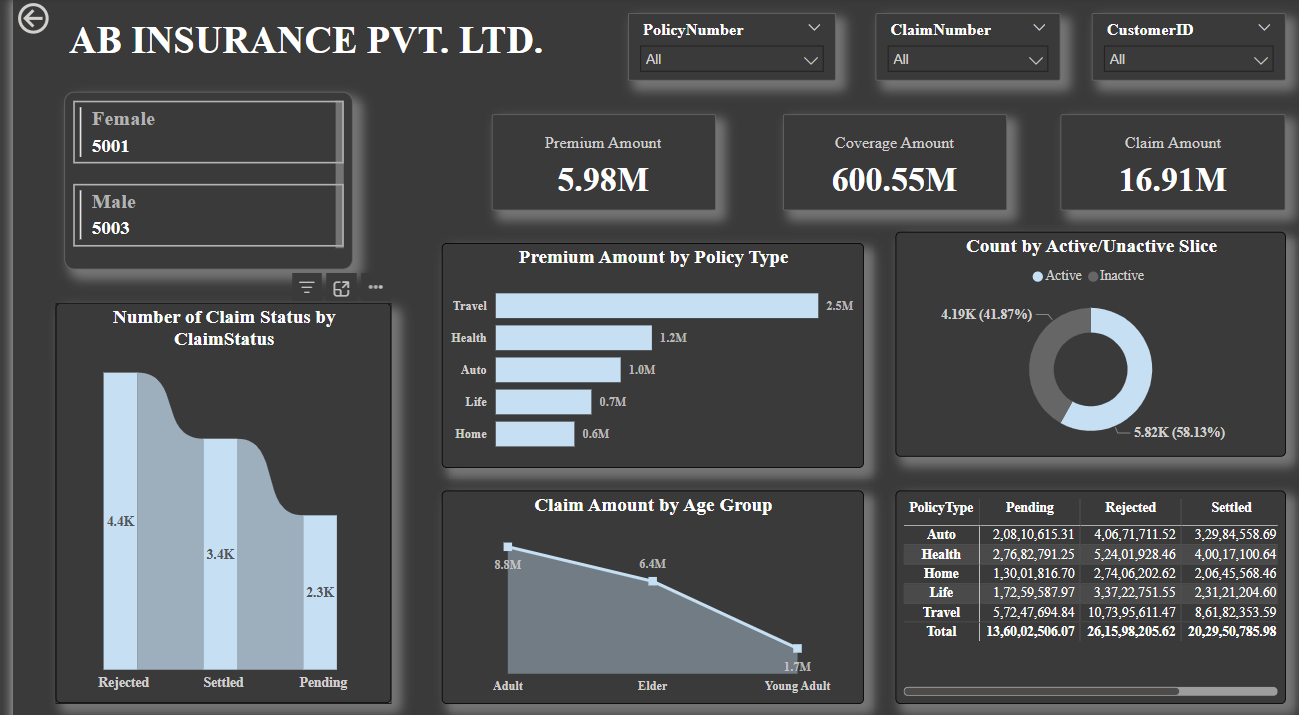

The page's visual inventory and layout, read from the dashboard file:
{"tool":"powerbi","page":{"name":"Insurance Report","canvas":[1280,720],"ordinal":0},"visuals":[{"type":"slicer","fields":{"Values":["InsuranceData.ClaimNumber"]},"box":[846.6,14.7,181.6,66.3],"z":0},{"type":"slicer","fields":{"Values":["InsuranceData.CustomerID"]},"box":[1058.9,14.7,190.2,66.3],"z":1000},{"type":"textbox","box":[11,14.7,553.4,66.3],"z":2000},{"type":"slicer","fields":{"Values":["InsuranceData.PolicyNumber"]},"box":[603.7,14.7,203.7,66.3],"z":3000},{"type":"cardVisual","fields":{"Data":["Sum(InsuranceData.PremiumAmount)"]},"box":[470.4,114.1,219.7,94.4],"z":4000},{"type":"cardVisual","fields":{"Data":["Sum(InsuranceData.CoverageAmount)"]},"box":[756.3,114.1,219.7,94.4],"z":5000},{"type":"cardVisual","fields":{"Data":["Sum(InsuranceData.ClaimAmount)"]},"box":[1028.2,114.1,221.1,94.4],"z":6000},{"type":"multiRowCard","fields":{"Values":["InsuranceData.Gender","CountNonNull(InsuranceData.Gender)"]},"box":[50.7,91.5,283.1,174.6],"z":7000},{"type":"ribbonChart","title":"Number of Claim Status by ClaimStatus","fields":{"Category":["InsuranceData.ClaimStatus"],"Y":["CountNonNull(InsuranceData.ClaimStatus)"]},"box":[42.3,300,329.6,393],"z":8000},{"type":"barChart","title":"Premium Amount by Policy Type","fields":{"Category":["InsuranceData.PolicyType"],"Y":["Sum(InsuranceData.PremiumAmount)"]},"box":[421.1,240.8,414.1,221.1],"z":9000},{"type":"lineChart","title":"Claim Amount by Age Group","fields":{"Category":["InsuranceData.Age Group"],"Y":["Sum(InsuranceData.ClaimAmount)"]},"box":[421.1,483.1,414.1,209.9],"z":10000},{"type":"donutChart","title":"Count by Active/Unactive Slice","fields":{"Category":["InsuranceData.Active/Unactive"],"Y":["CountNonNull(InsuranceData.Active/Unactive)"]},"box":[866.2,229.6,383.1,221.1],"z":11000},{"type":"pivotTable","fields":{"Values":["Sum(InsuranceData.CoverageAmount)"],"Columns":["InsuranceData.ClaimStatus"],"Rows":["InsuranceData.PolicyType"]},"box":[866.2,483.1,383.1,209.9],"z":12000},{"type":"actionButton","box":[0,0,100,40],"z":13000}]}

Visuals, with their boxes in screenshot pixels (x1, y1, x2, y2), scaled from the page's 1280x720 canvas onto the 1299x715 screenshot:
slicer - InsuranceData.ClaimNumber: rect(859, 15, 1043, 80)
slicer - InsuranceData.CustomerID: rect(1075, 15, 1268, 80)
textbox: rect(11, 15, 573, 80)
slicer - InsuranceData.PolicyNumber: rect(613, 15, 819, 80)
cardVisual - Sum(InsuranceData.PremiumAmount): rect(477, 113, 700, 207)
cardVisual - Sum(InsuranceData.CoverageAmount): rect(768, 113, 990, 207)
cardVisual - Sum(InsuranceData.ClaimAmount): rect(1043, 113, 1268, 207)
multiRowCard - InsuranceData.Gender x CountNonNull(InsuranceData.Gender): rect(51, 91, 339, 264)
"Number of Claim Status by ClaimStatus" ribbonChart: rect(43, 298, 377, 688)
"Premium Amount by Policy Type" barChart: rect(427, 239, 848, 459)
"Claim Amount by Age Group" lineChart: rect(427, 480, 848, 688)
"Count by Active/Unactive Slice" donutChart: rect(879, 228, 1268, 448)
pivotTable - Sum(InsuranceData.CoverageAmount) x InsuranceData.ClaimStatus: rect(879, 480, 1268, 688)
actionButton: rect(0, 0, 101, 40)
